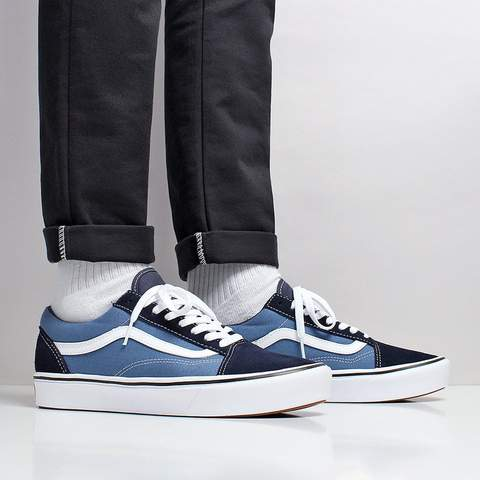Vans Old Skool Blue: (22, 266, 339, 421), (171, 256, 458, 411)
